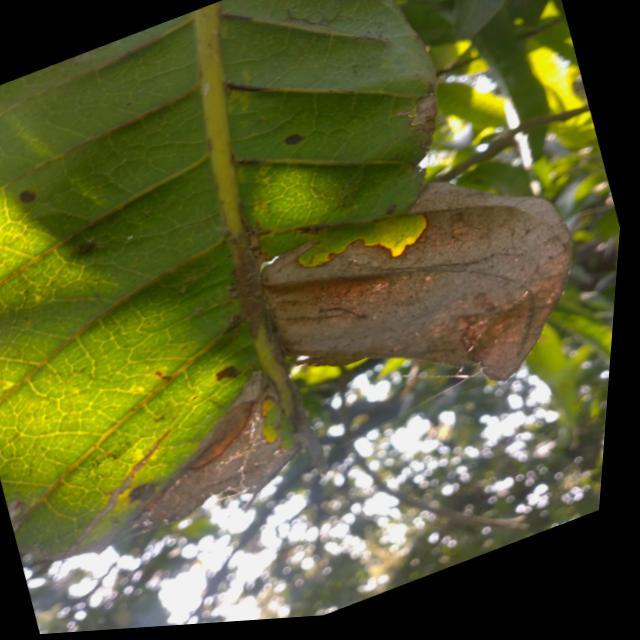Bacterial Cancer: (370, 223, 554, 399), (273, 257, 398, 381), (491, 180, 595, 310), (166, 446, 286, 530), (398, 164, 497, 236), (234, 231, 311, 308), (389, 88, 448, 142)
black die: (2, 181, 46, 218), (284, 127, 310, 151)
